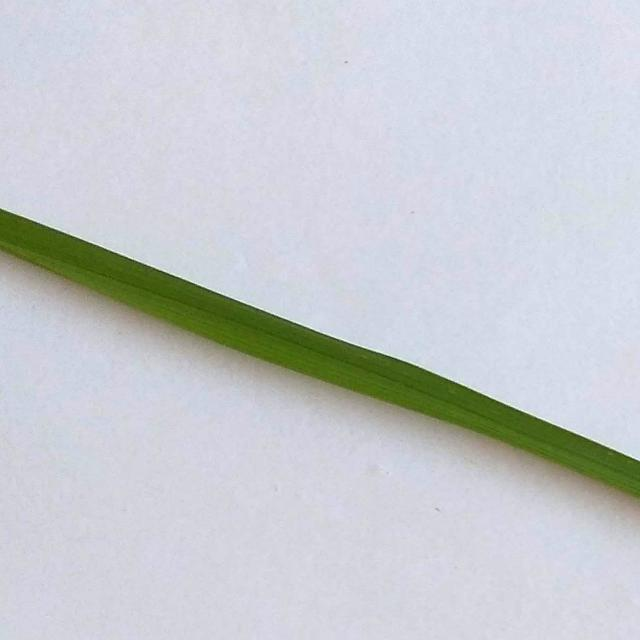Rice_Healthy: (0, 209, 639, 499)
